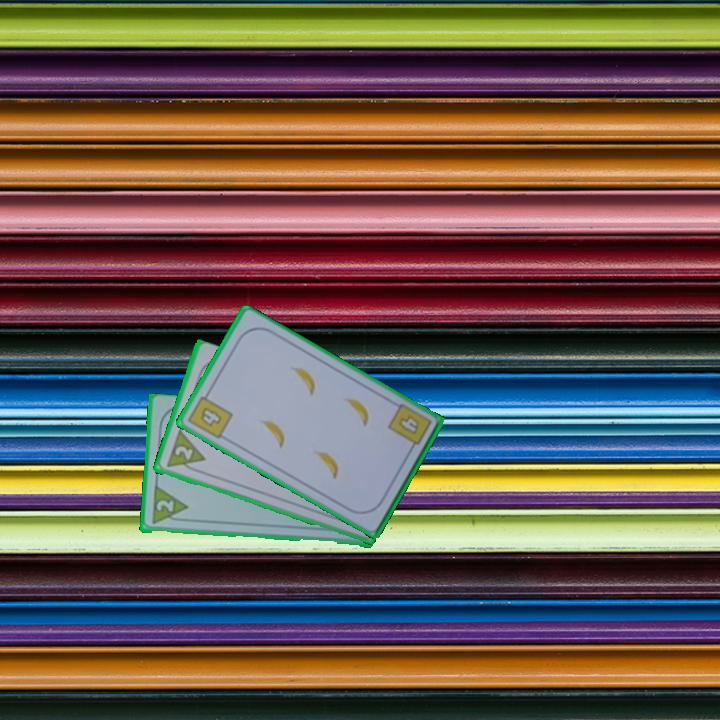2p: (171, 442, 195, 463), (152, 496, 176, 515)
4b: (184, 387, 236, 442), (384, 400, 434, 455)
